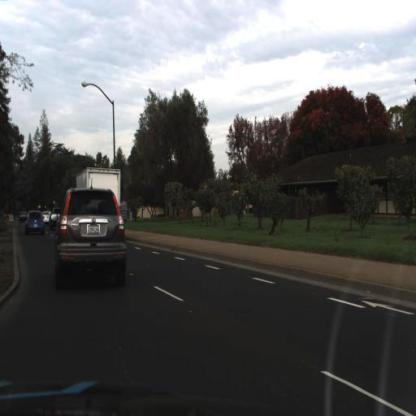car: (50, 178, 130, 286), (26, 206, 47, 239), (24, 208, 45, 232)
truck: (76, 161, 128, 218)
